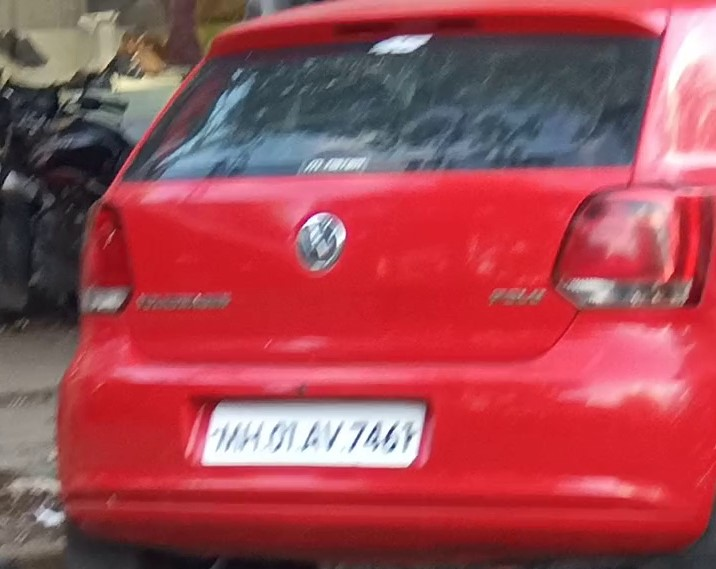MH01AV7461: (201, 399, 428, 467)
